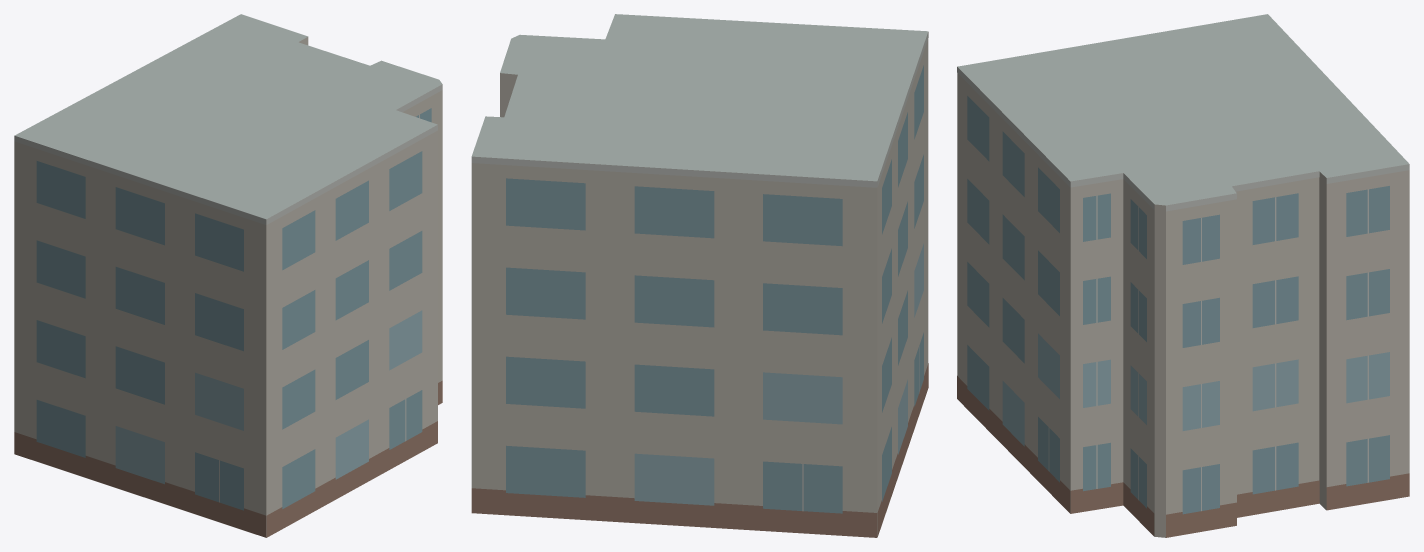
File: survey-upis-32594717.glb
3 renders of one model, left to right at view 1: azimuth 30°, elevation 25°; view 2: azimuth 150°, elevation 25°; view 3: azimuth 270°, elevation 25°, orthographic. The views are drawn at different scales.
Visible parts, largest first — view 1: survey-upis-32594717.tmp; view 2: survey-upis-32594717.tmp; view 3: survey-upis-32594717.tmp.
Boxes of the visible parts, box(x1,y1,x2,y2) form: survey-upis-32594717.tmp: box(14, 14, 442, 537); survey-upis-32594717.tmp: box(471, 14, 928, 537); survey-upis-32594717.tmp: box(957, 14, 1409, 537).
Bounding box in the file's own units: 16.63 × 13.45 × 16.6.
